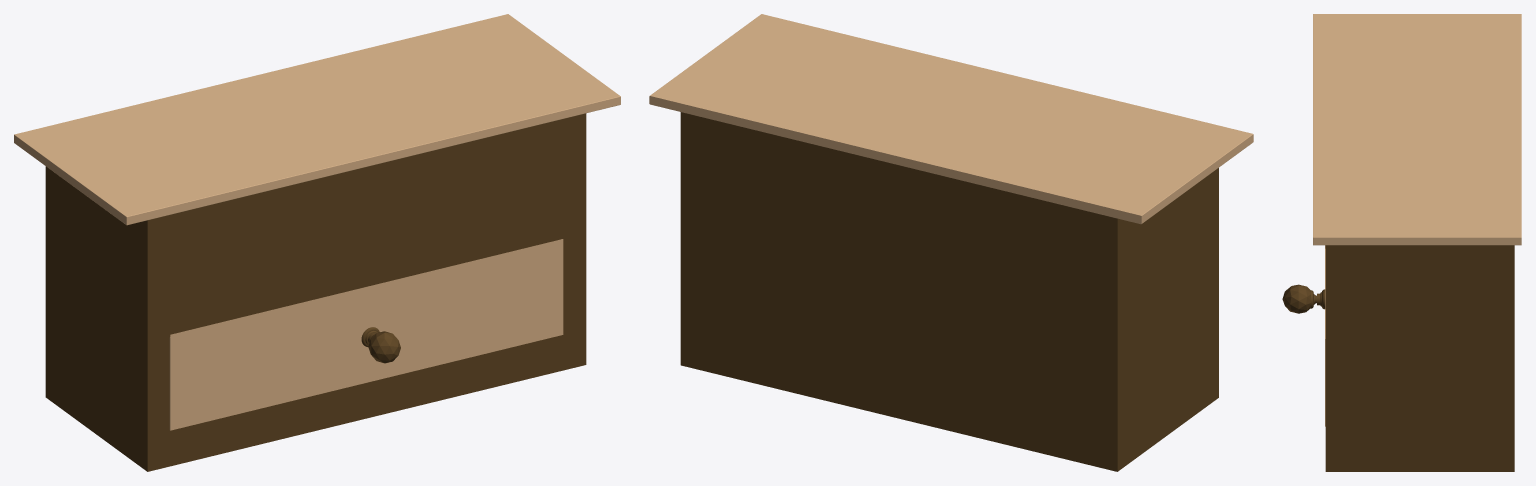
The model's file is comoda.obj.
3 views of the same model, side by side, from view 1: azimuth 30°, elevation 25°; view 2: azimuth 150°, elevation 25°; view 3: azimuth 270°, elevation 25° (orthographic). The views are drawn at different scales.
Visible parts, largest first — view 1: comoda:pCube30; view 2: comoda:pCube30; view 3: comoda:pCube30.
Part boxes in pixels (x1,y1,x2,y2): comoda:pCube30: (14,14,620,471); comoda:pCube30: (649,14,1253,471); comoda:pCube30: (1282,14,1521,471).
Bounding box in the file's own units: 1.21 × 0.6256 × 0.5484.
3 materials, 3 textured.
